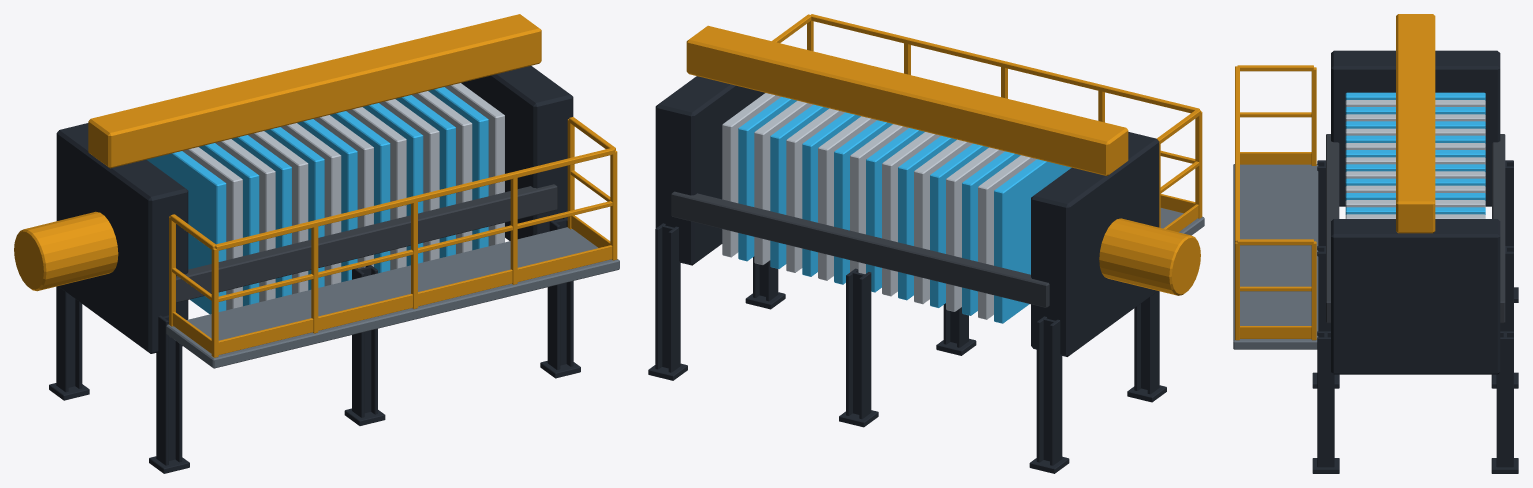
Rendered from filter_press_fp501.glb.
3 renders of one model, left to right at view 1: azimuth 30°, elevation 25°; view 2: azimuth 150°, elevation 25°; view 3: azimuth 270°, elevation 25°, orthographic. The views are drawn at different scales.
Visible parts, largest first — view 1: FP_ChromeRam; view 2: FP_ChromeRam; view 3: FP_ChromeRam.
Boxes of the visible parts, x1=… form: FP_ChromeRam: x1=14, y1=14, x2=619, y2=473; FP_ChromeRam: x1=648, y1=14, x2=1204, y2=473; FP_ChromeRam: x1=1233, y1=14, x2=1518, y2=473.
Size of the model in its own units: 4.76 by 2.78 by 2.61.
Materials: 1 (1 with a texture image).
